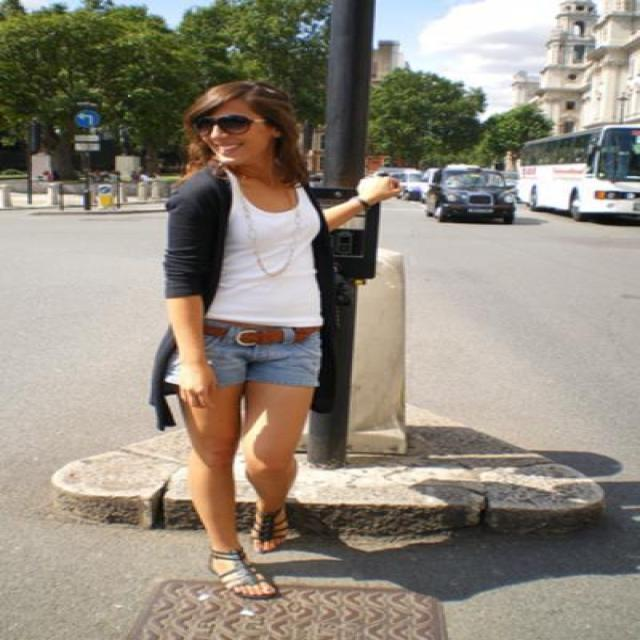jacket: (146, 166, 360, 414)
shirt: (211, 192, 322, 326)
shoe: (258, 511, 300, 549)
shorts: (195, 328, 320, 388)
sunglass: (189, 102, 251, 134)
